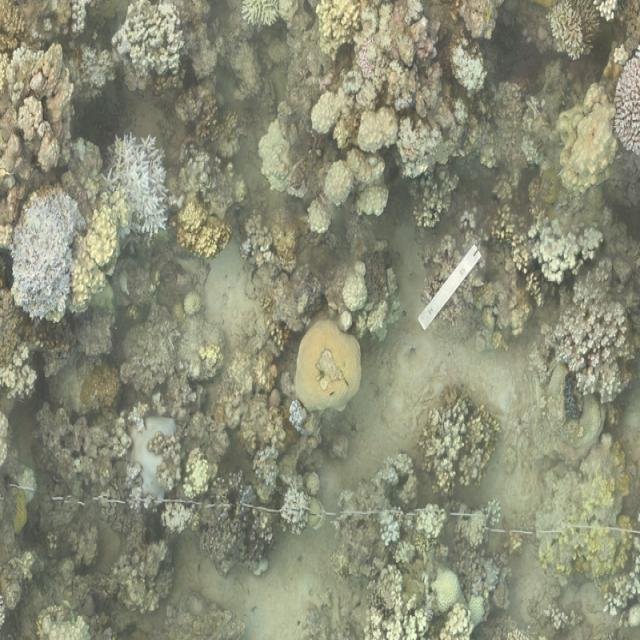Bleached Coral: (0, 175, 107, 331), (319, 74, 406, 224), (545, 289, 631, 402), (103, 127, 181, 251), (108, 0, 206, 87), (519, 204, 621, 282), (344, 568, 434, 640), (428, 398, 479, 491), (609, 35, 640, 178), (444, 37, 502, 108), (544, 0, 594, 79), (27, 599, 109, 640), (276, 475, 324, 535), (437, 591, 491, 640), (374, 502, 415, 558), (232, 0, 293, 34)
